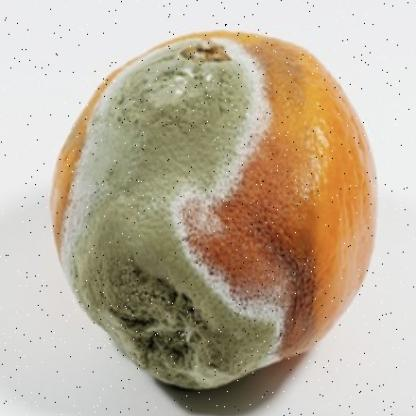rotten: (51, 28, 380, 393)
